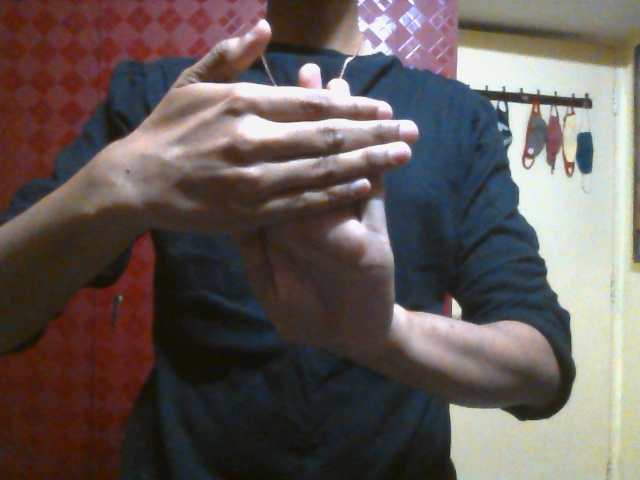H: (165, 18, 419, 352)
